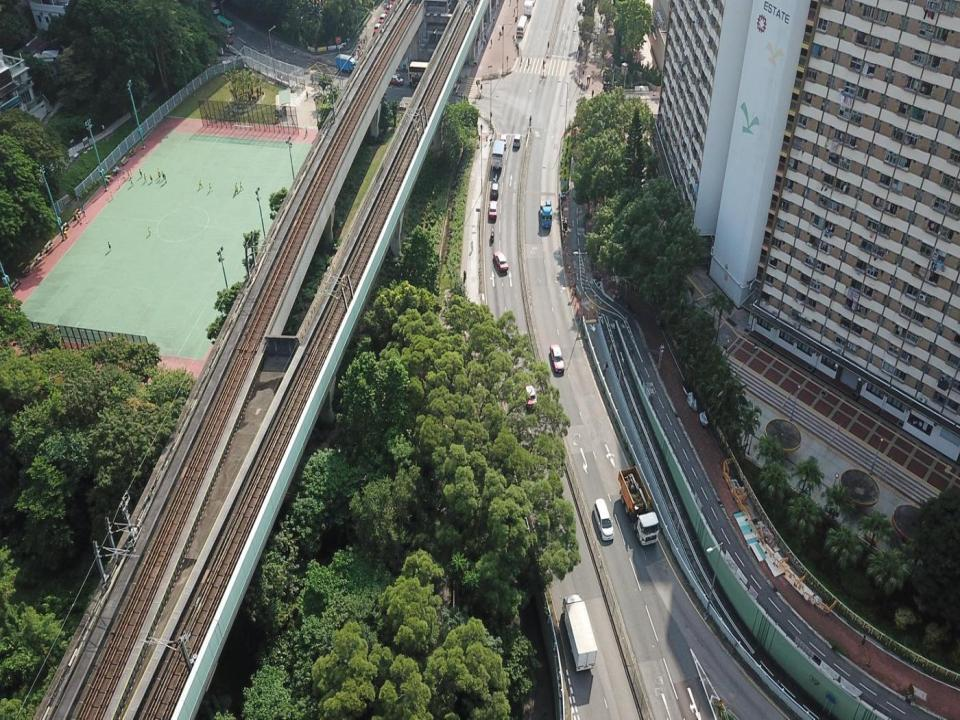bus: (408, 60, 447, 89), (491, 140, 505, 171), (216, 14, 236, 34)
car: (520, 374, 538, 408), (549, 344, 565, 374), (493, 250, 509, 272), (487, 199, 498, 219), (386, 74, 404, 86), (489, 180, 500, 199), (220, 31, 234, 45), (372, 22, 382, 36), (499, 133, 508, 148), (384, 3, 394, 16), (378, 13, 387, 24)
truck: (617, 465, 660, 546), (559, 593, 597, 672), (335, 53, 357, 73), (540, 200, 553, 228), (205, 0, 220, 16)
van: (592, 498, 614, 541), (513, 133, 522, 148)
